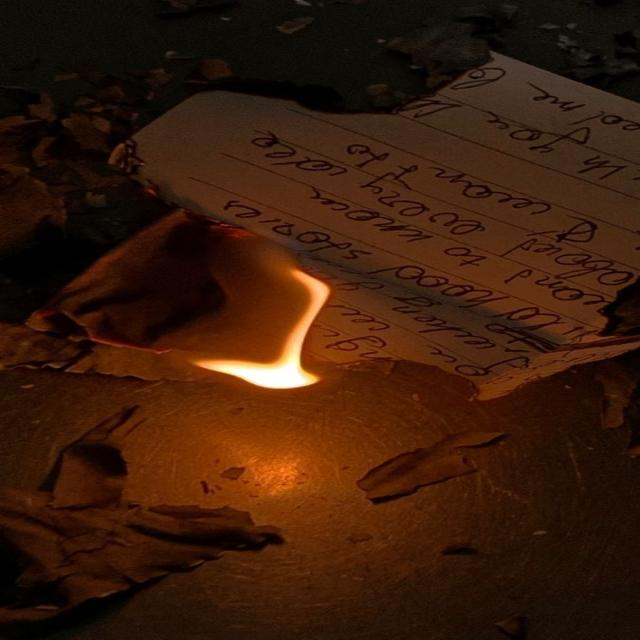fire: (202, 353, 322, 390), (285, 265, 331, 348)
